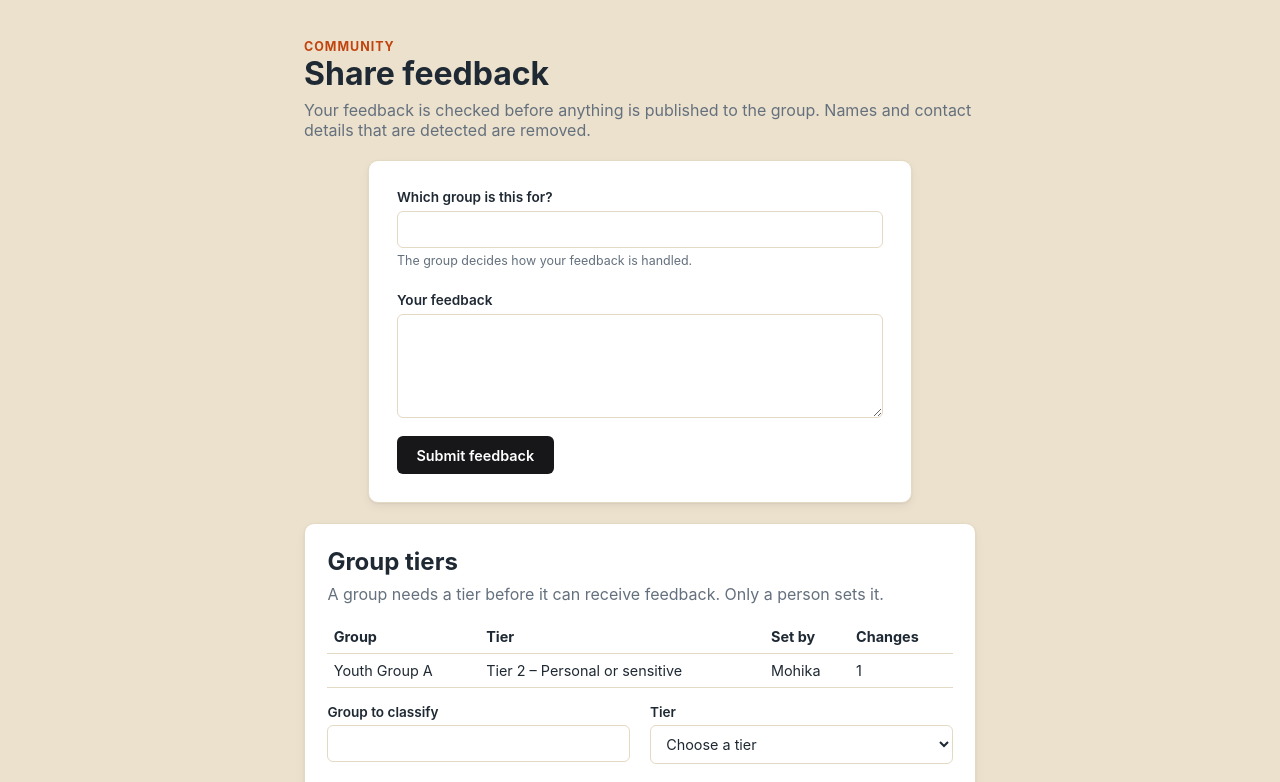
CommunitySubmissionPage (Story 24) › shows published text with names and contact details marked as removed
Type "Youth Group A" into the field labelled "Which group is this for?".
click(640, 229); type("Youth Group A")  # box [397,211,883,248]
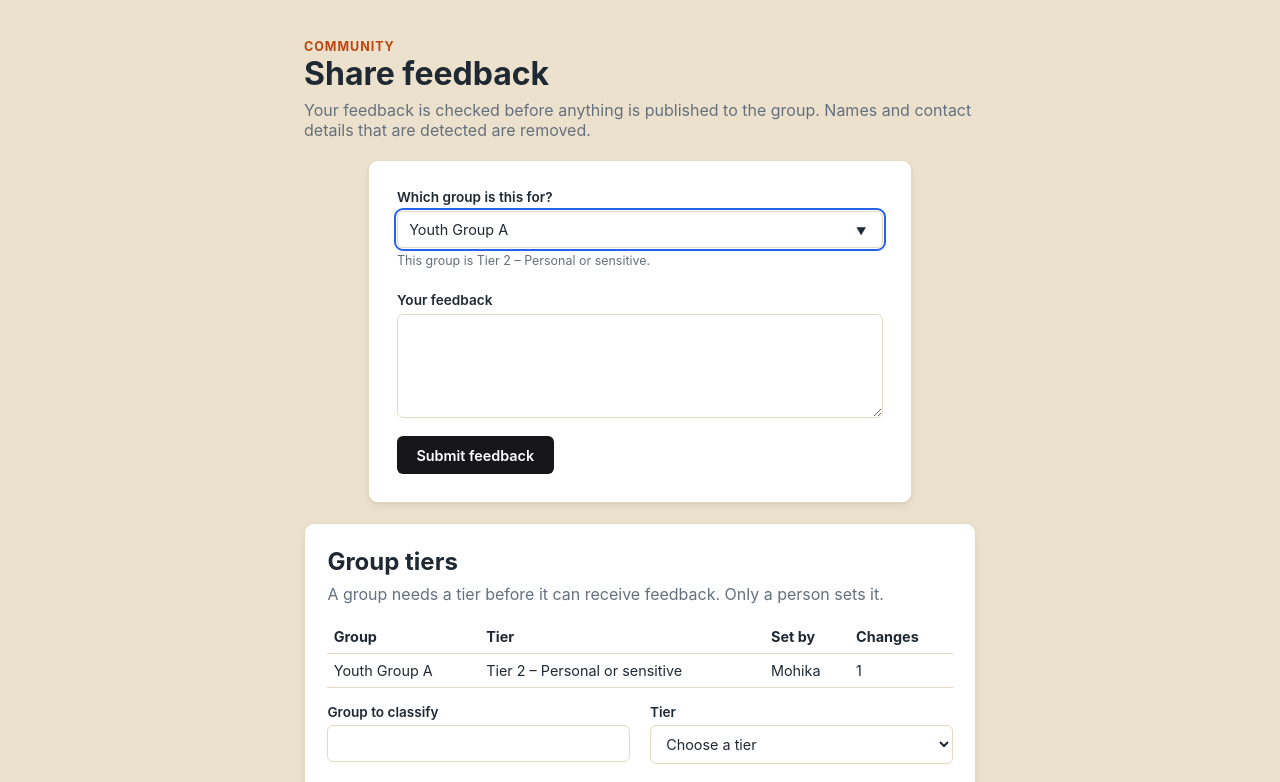
Type "Thanks to Maria Lopez for running it. Call 0412 345 678." into the text box labelled "Your feedback".
click(640, 366); type("Thanks to Maria Lopez for running it. Call 0412 345 678.")  # box [397,314,883,418]
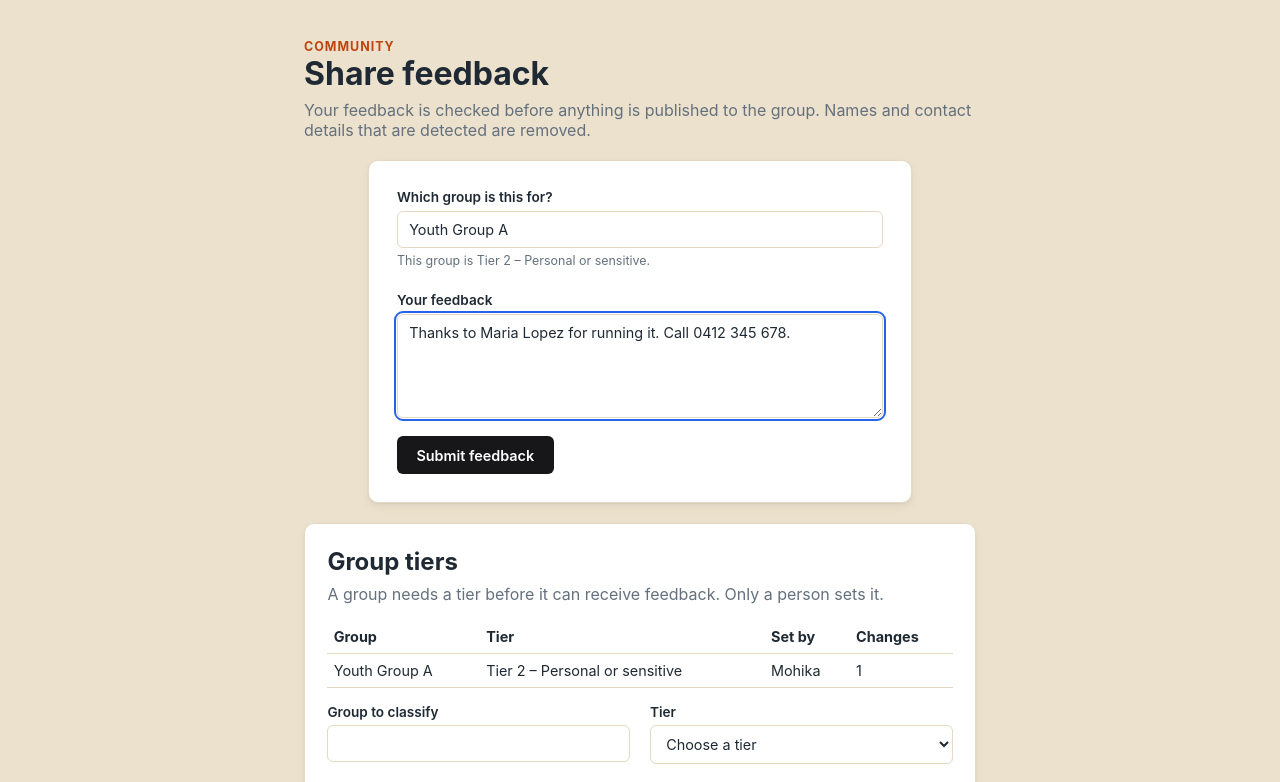
Click the button "Submit feedback".
click(475, 455)  # box [397,436,554,474]
(page scrolled)
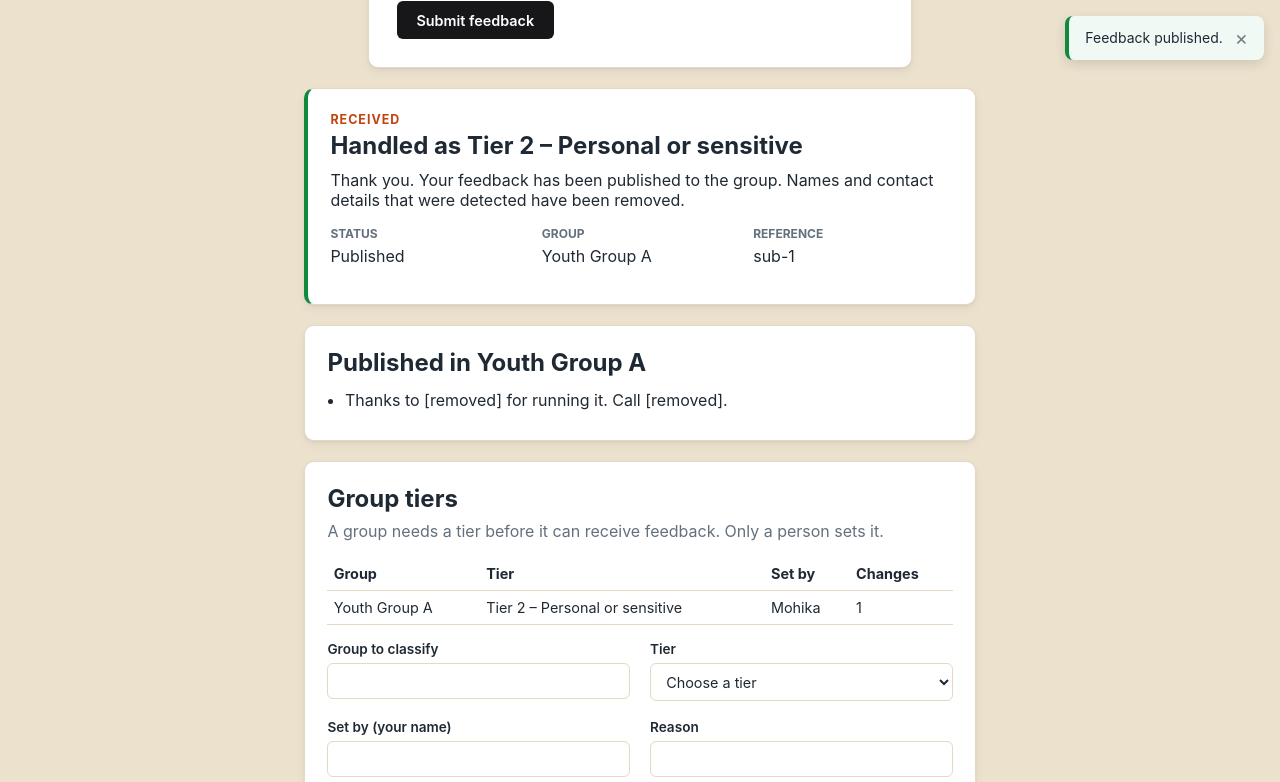
Now the list item "Thanks to [removed] for running it. Call [removed]." is shown, box [345,390,728,410]
